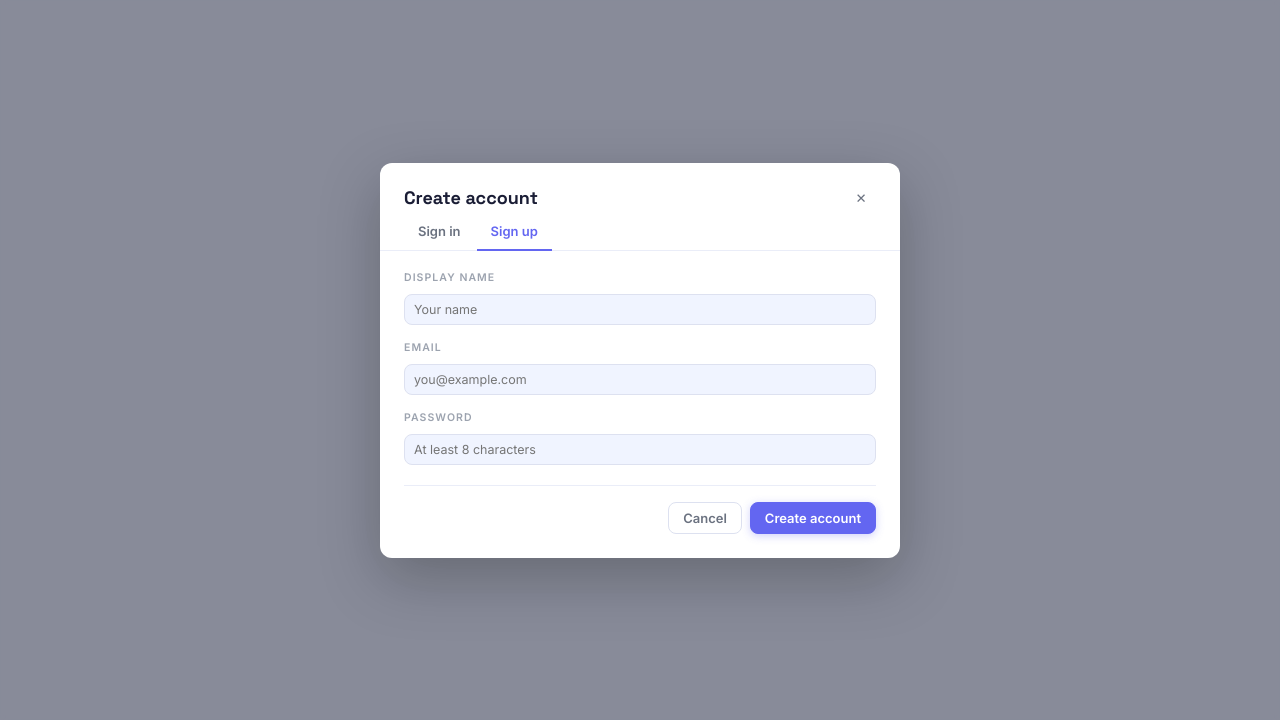
Test: AuthModal › client-side validation › shows error when signup password is too short
The image size is (1280, 720).
Type "Alice" into the field labelled "Display name" at (640,309), box [404, 294, 876, 324]
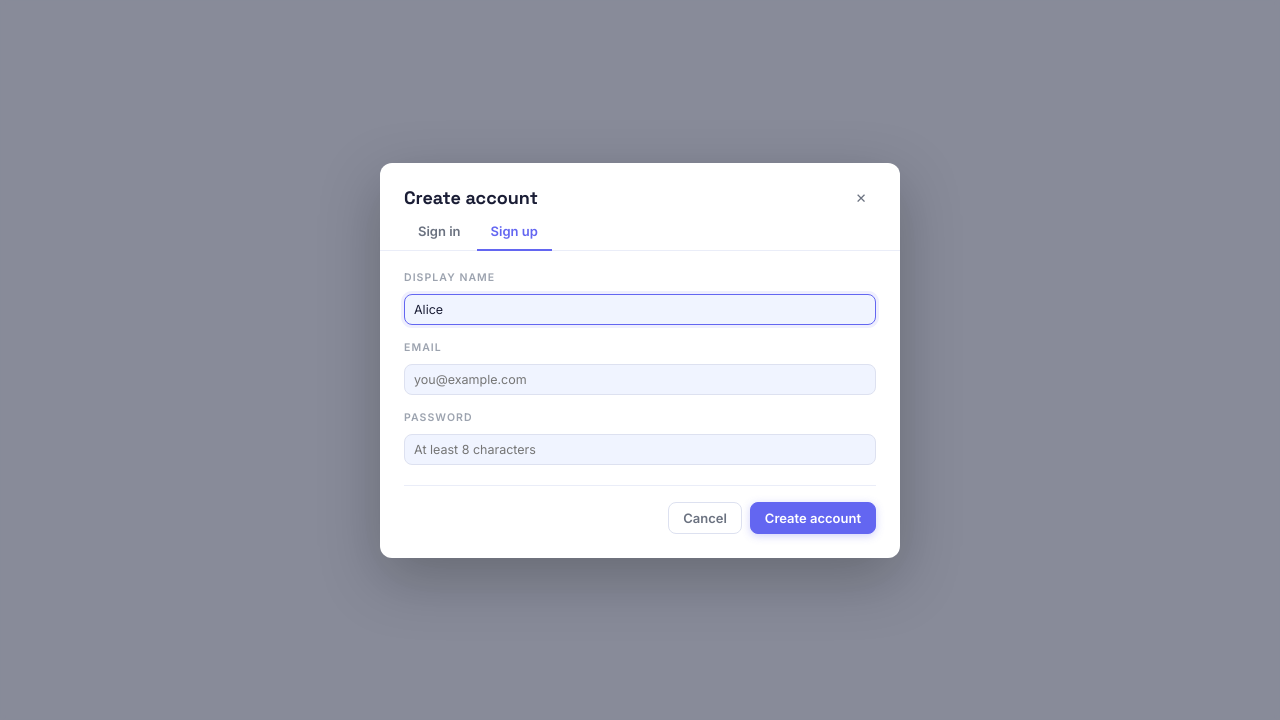
Type "a@b.com" into the field labelled "Email" at (640,379), box [404, 364, 876, 394]
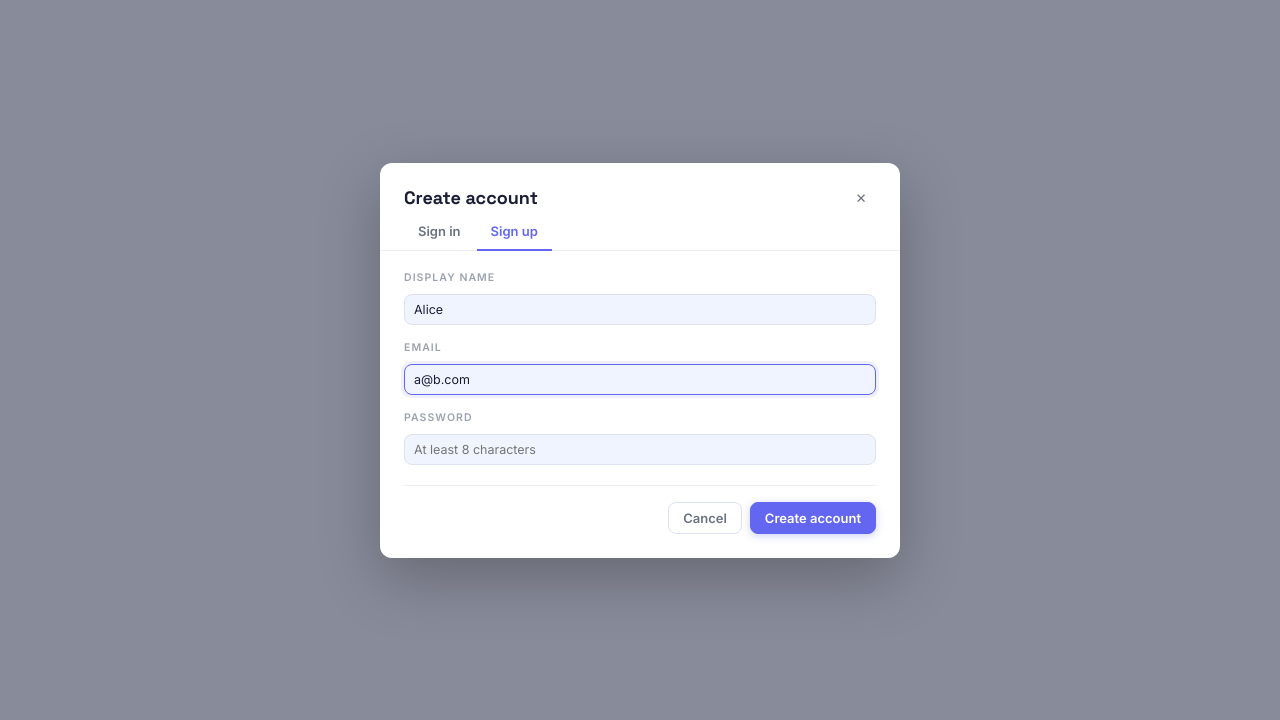
Type "short" into the password field labelled "Password" at (640,449), box [404, 434, 876, 464]
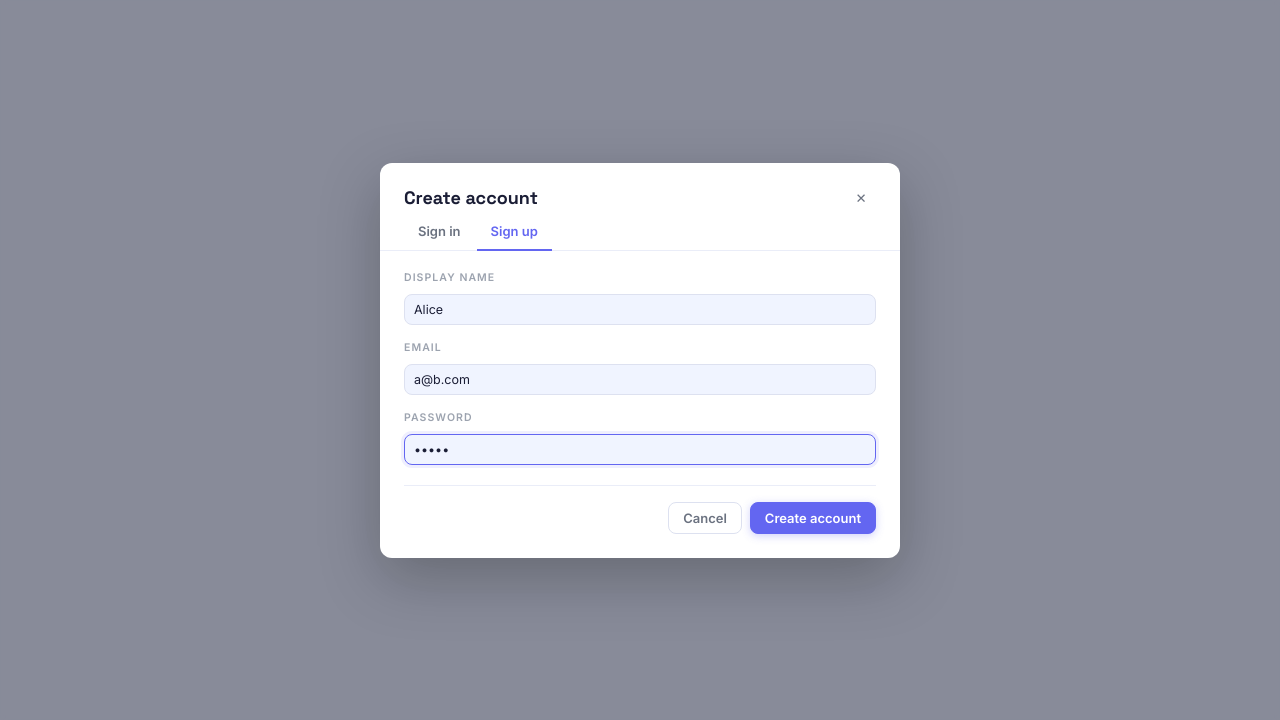
Submit the form, box [380, 250, 900, 558]
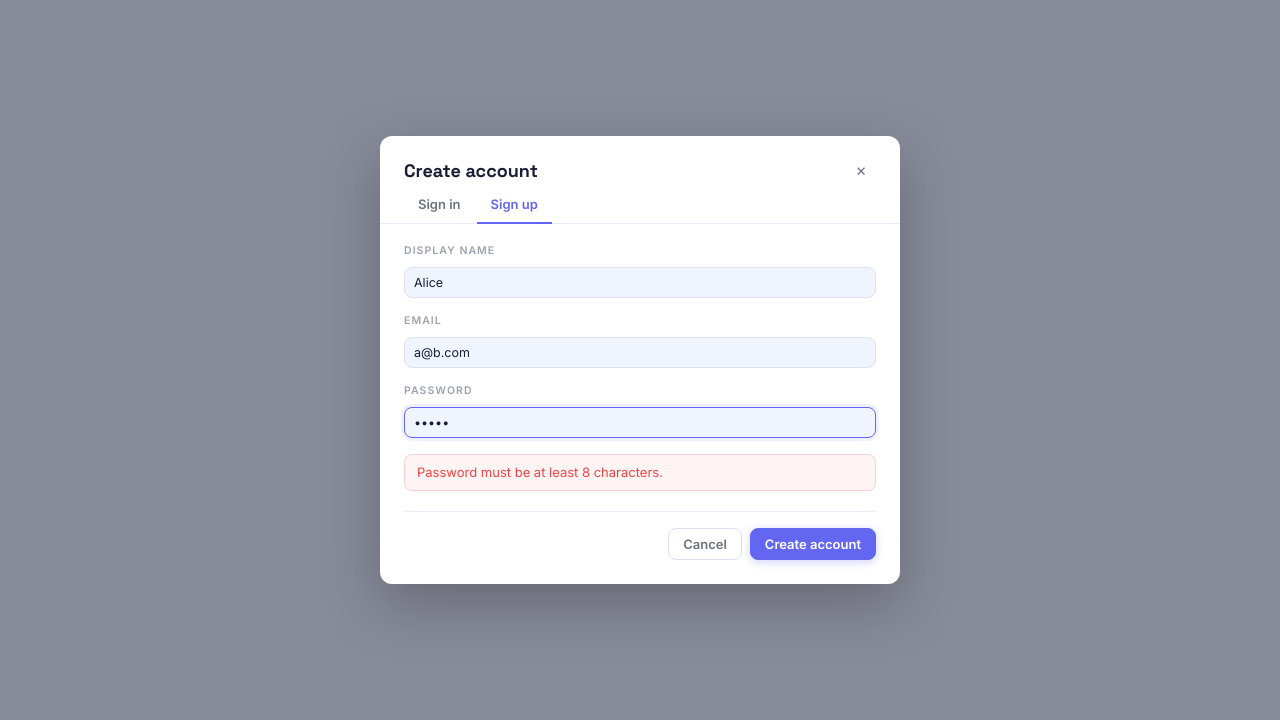
Result: the text "Password must be at least 8 characters." is shown at [404, 454, 876, 491]
